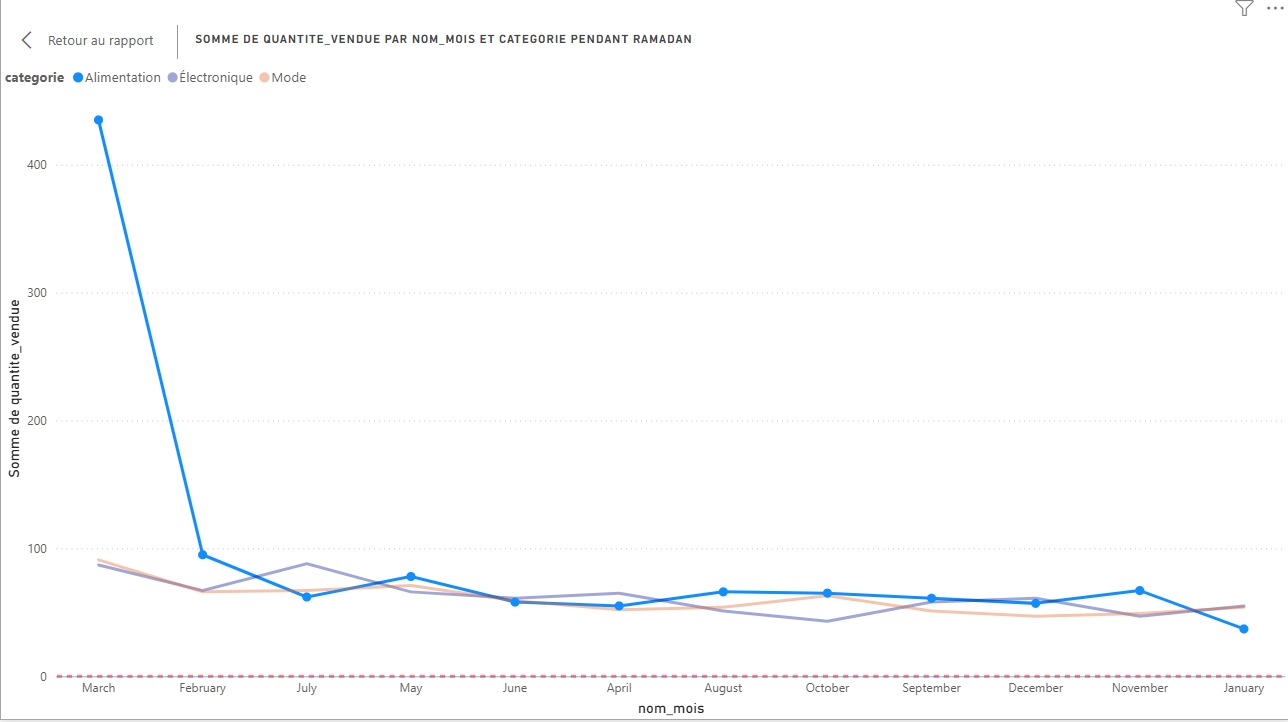

The dashboard page shown, as its layout file describes it:
{"tool":"powerbi","page":{"name":"Page 5","canvas":[1280,720],"ordinal":4},"visuals":[{"type":"lineChart","title":"Somme de quantite_vendue par nom_mois et categorie pendant RAMADAN","fields":{"Category":["dw dim_temps.nom_mois"],"Y":["Sum(dw fact_ventes.quantite_vendue)"],"Series":["dw dim_produits.categorie"]},"box":[10,0,280,280],"z":0}]}

Visuals, with their boxes on the page's 1280x720 design canvas (x1, y1, x2, y2). These are canvas units, not pixel positions in the 1288x722 screenshot, which may show the page scaled, cropped or inside an application window:
"Somme de quantite_vendue par nom_mois et categorie pendant RAMADAN" lineChart: crop(10, 0, 290, 280)
